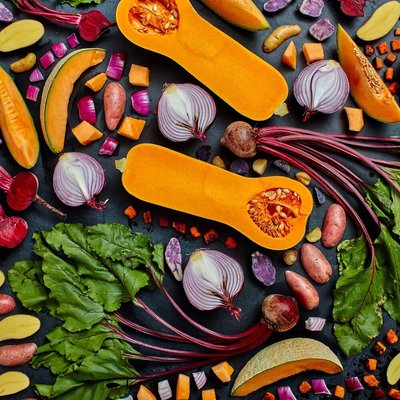pasta: (230, 337, 344, 398)
